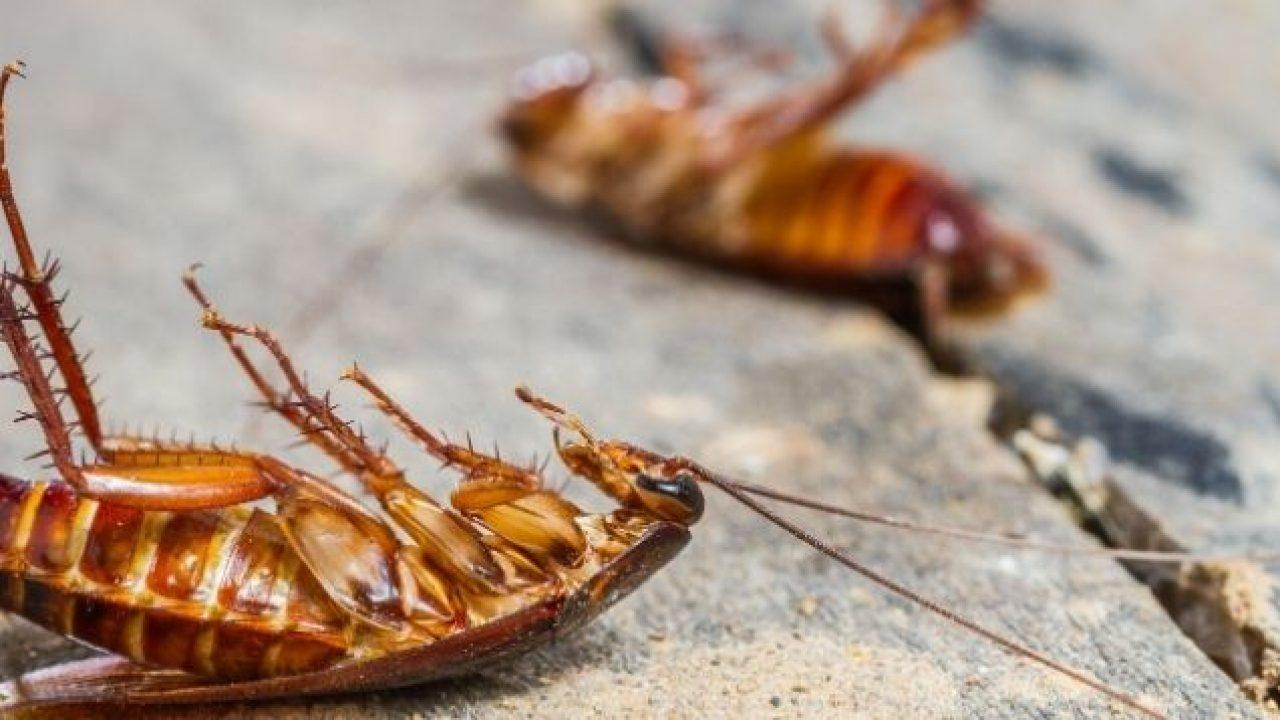cockroach: (0, 366, 707, 718), (497, 47, 1044, 316)
